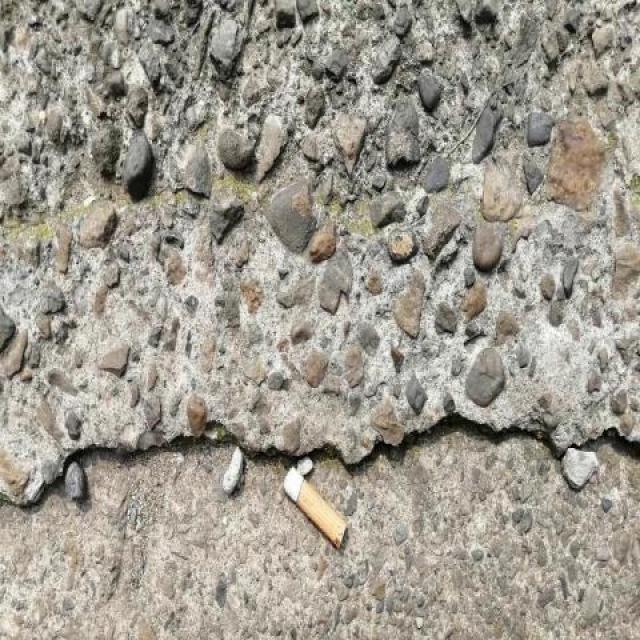non-organic waste: (277, 464, 351, 553)
